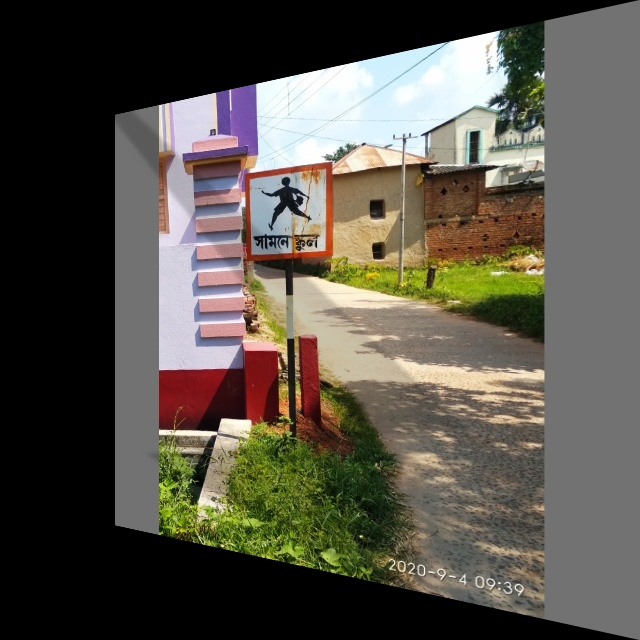School_Ahead: (249, 162, 330, 258)
